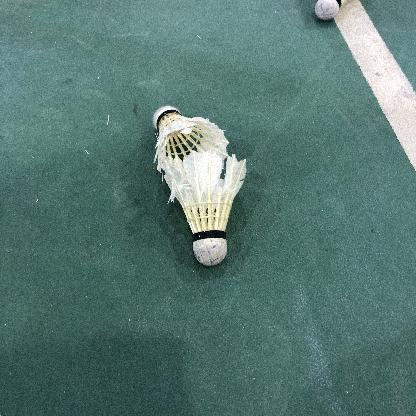ball_single: (163, 150, 247, 266), (153, 106, 228, 174), (315, 0, 349, 21)
